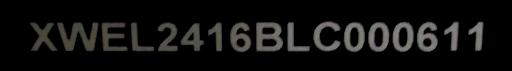letter: (54, 19, 100, 54), (311, 18, 343, 53), (26, 19, 58, 54), (98, 20, 130, 53), (254, 19, 284, 54), (178, 20, 208, 53), (226, 20, 254, 55), (415, 19, 441, 56), (283, 19, 311, 52), (128, 20, 156, 53), (390, 20, 416, 55), (154, 20, 180, 53), (204, 18, 228, 53), (366, 19, 390, 54), (342, 20, 366, 53), (442, 17, 462, 54), (466, 18, 486, 53)
